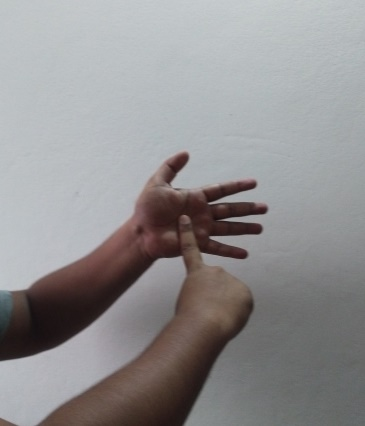oo: (134, 149, 271, 337)
